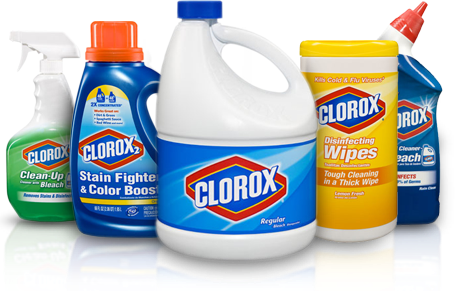Wipes: (296, 35, 407, 247)
